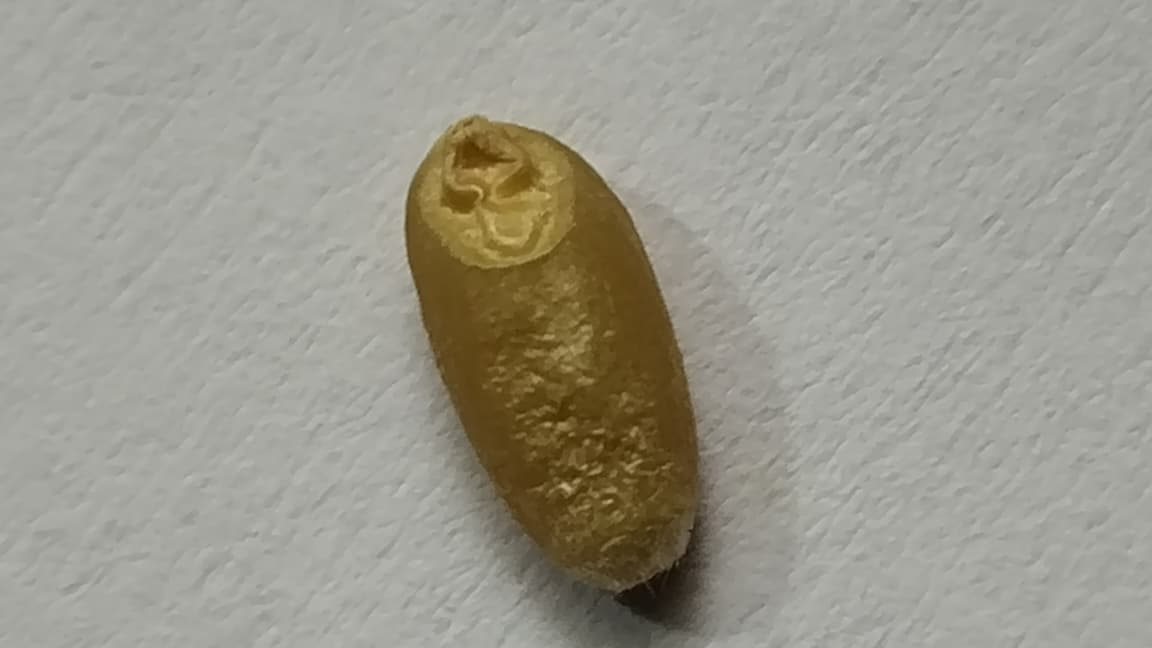healthy: (406, 116, 696, 590)
